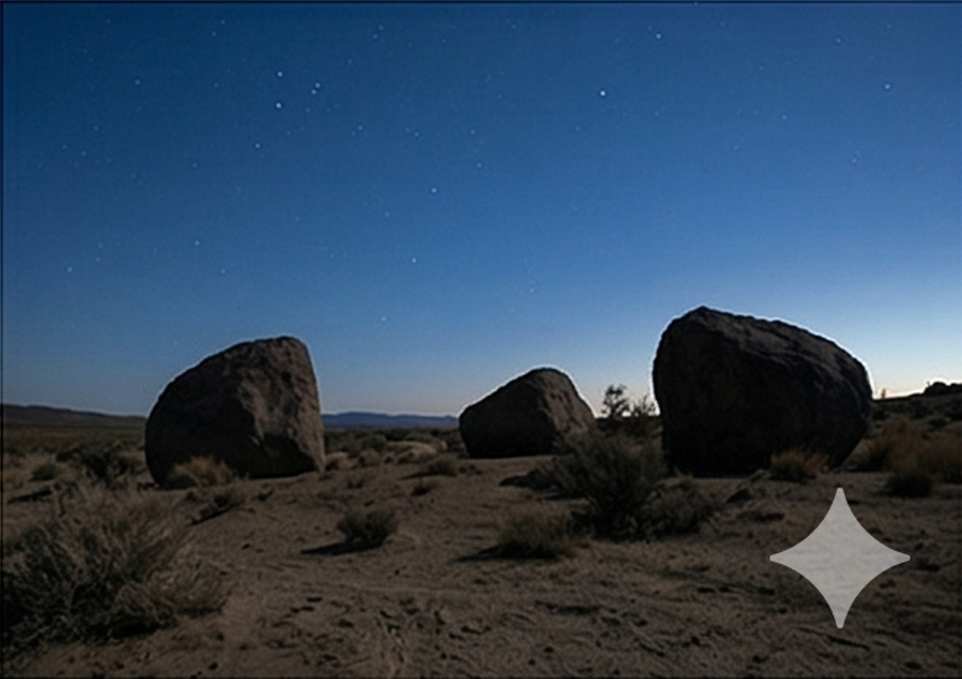rocks: (654, 307, 871, 473), (146, 337, 323, 482), (460, 368, 594, 457)
